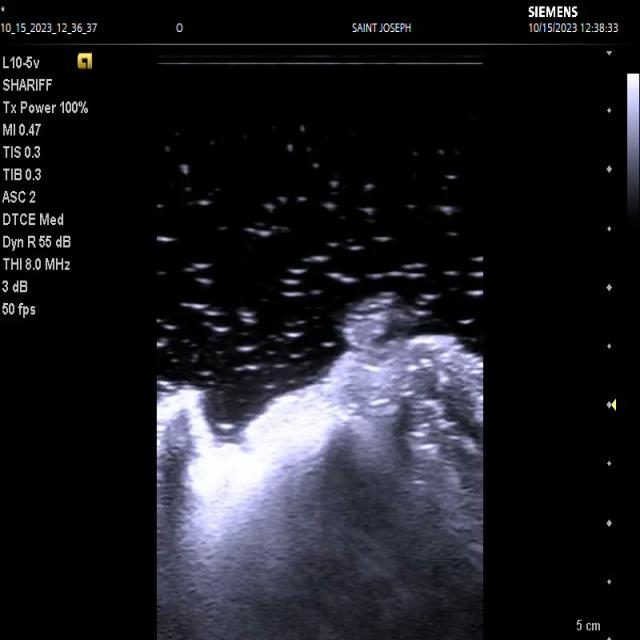tissue: (157, 294, 483, 640)
